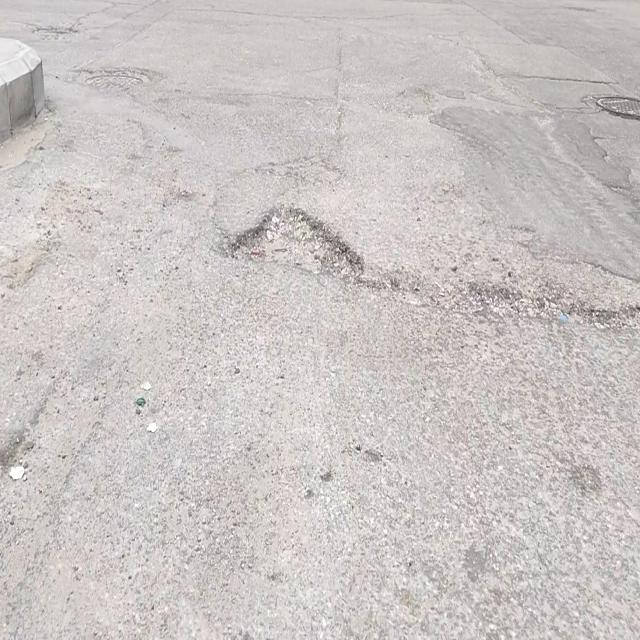Potholes: (226, 201, 365, 287)
